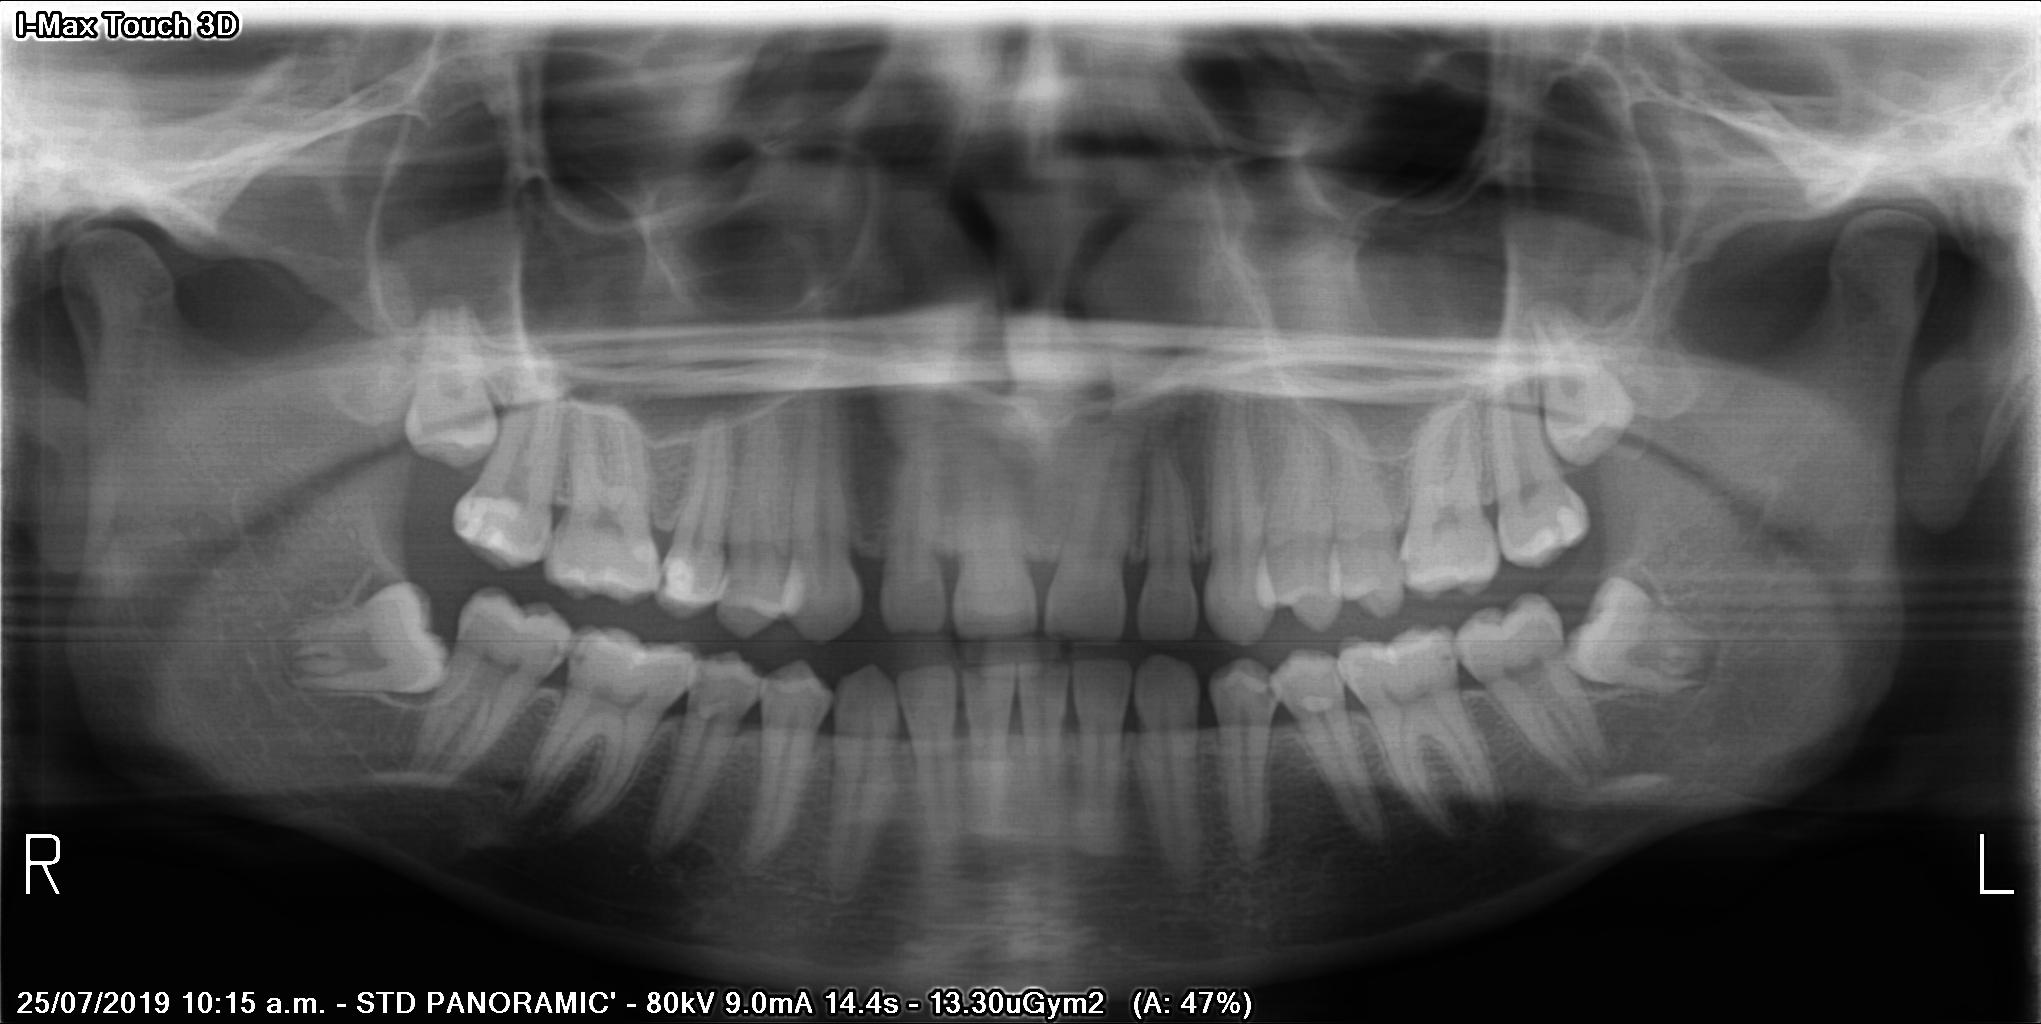Çürük: (448, 485, 535, 562), (1519, 486, 1604, 563), (665, 555, 693, 609)
Çürük Bölgesi: (569, 633, 595, 667), (1396, 558, 1422, 589), (1260, 679, 1280, 705), (659, 555, 669, 602)
